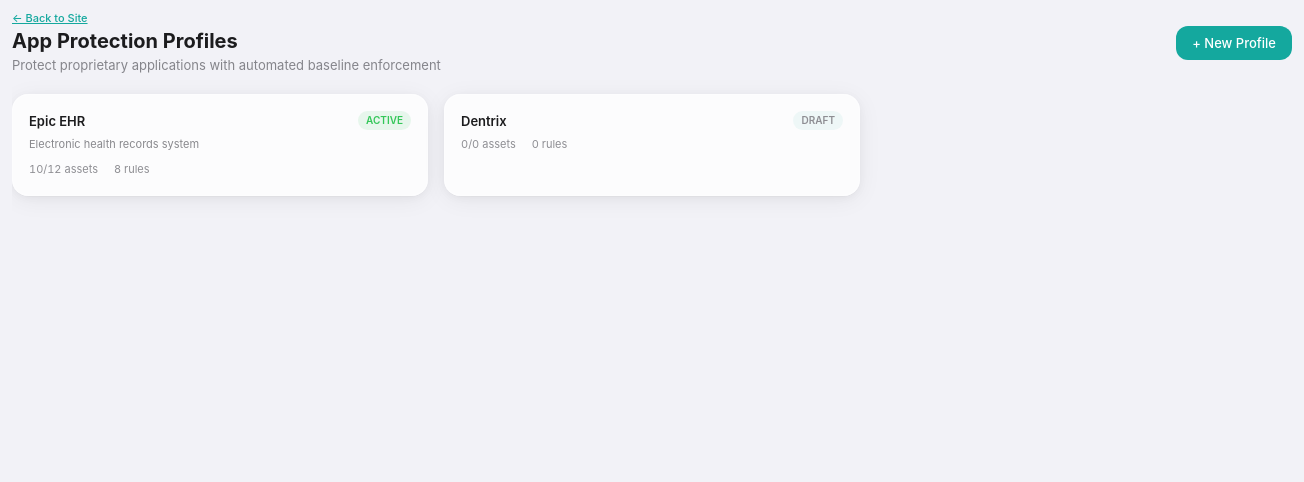
Scenario: ProtectionProfiles › shows create form when "+ New Profile" is clicked
The width and height of the screenshot is (1304, 482).
Click the button "+ New Profile". click: (1234, 43)
box: x1=1176 y1=26 x2=1292 y2=60
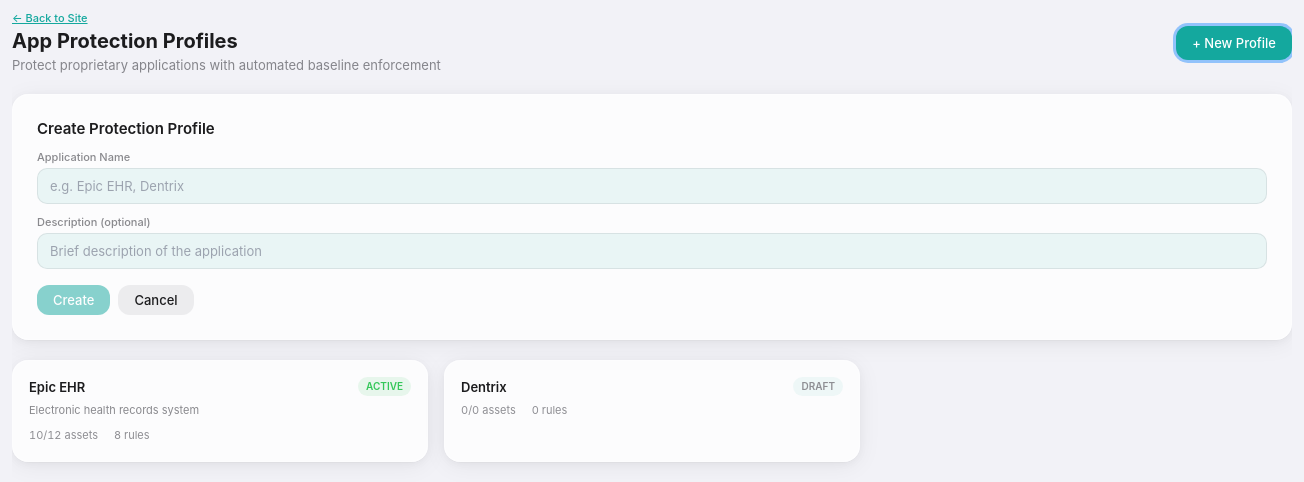
Now the heading "Create Protection Profile" is shown, box x1=37 y1=119 x2=215 y2=138
Now the field with placeholder "e.g. Epic EHR, Dentrix" is shown, box x1=37 y1=168 x2=1267 y2=204
Now the button "Create" is shown, box x1=37 y1=285 x2=110 y2=315
